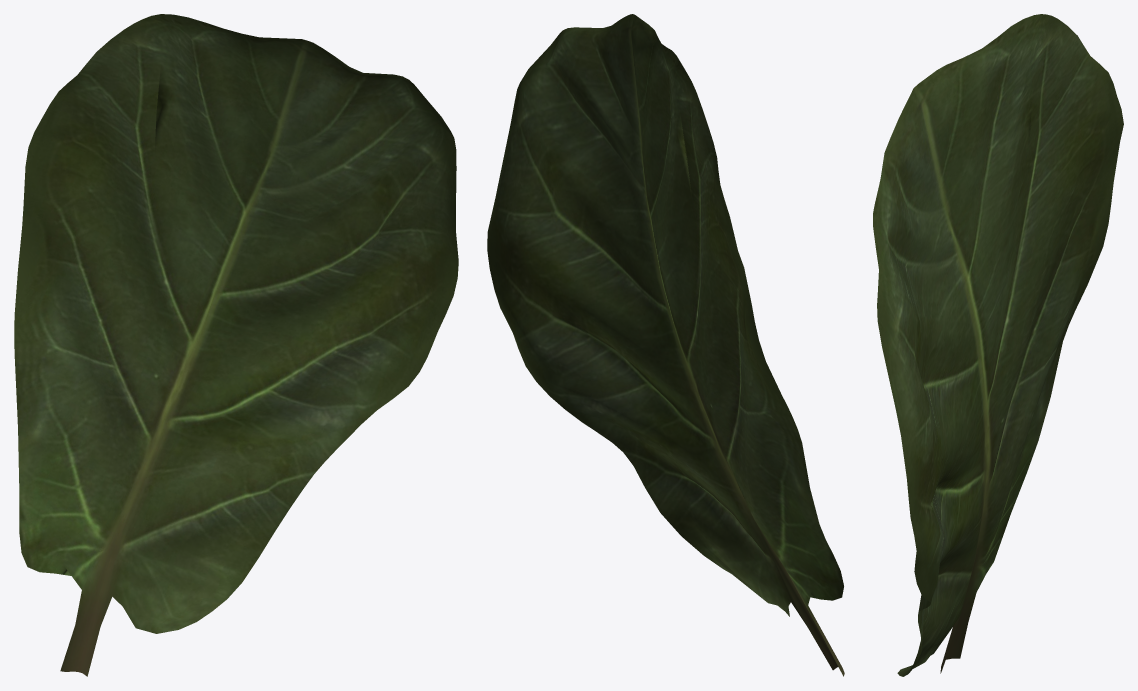
3 renders of one model, left to right at view 1: azimuth 30°, elevation 25°; view 2: azimuth 150°, elevation 25°; view 3: azimuth 270°, elevation 25°, orthographic. The views are drawn at different scales.
Visible parts, largest first — view 1: G-Plane209 68% 68% 68% 68%.019; view 2: G-Plane209 68% 68% 68% 68%.019; view 3: G-Plane209 68% 68% 68% 68%.019.
Boxes of the visible parts, left/top/right/bottom form: G-Plane209 68% 68% 68% 68%.019: left=14, top=14, right=458, bottom=676; G-Plane209 68% 68% 68% 68%.019: left=487, top=14, right=844, bottom=676; G-Plane209 68% 68% 68% 68%.019: left=873, top=14, right=1123, bottom=676.
Bounding box in the file's own units: 0.8404 × 1.23 × 0.386.
Materials: 1 (1 with a texture image).
